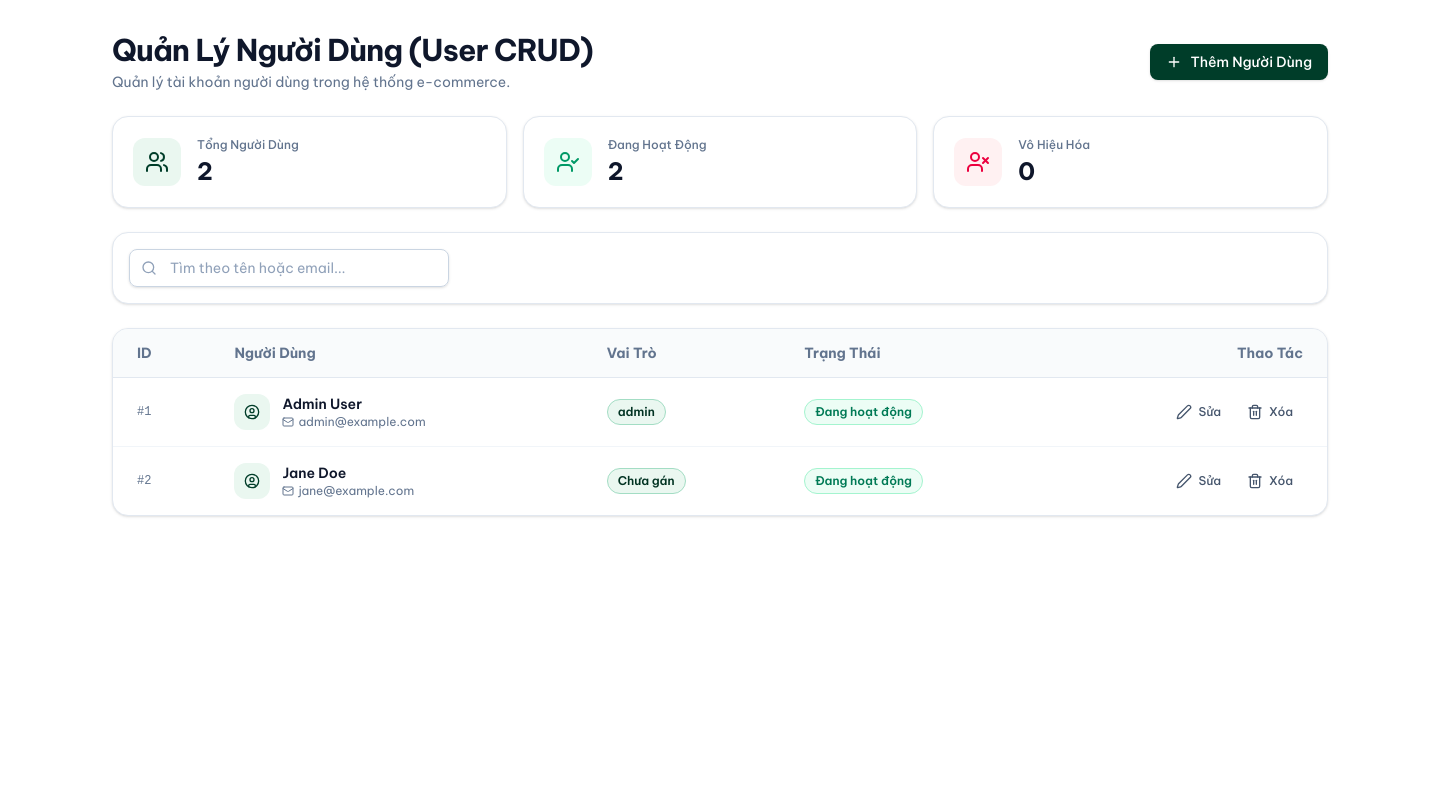
Scenario: UsersPage › shows an error banner when the create mutation fails
Click the button "Thêm Người Dùng" at (1239, 62), box [1150,44,1328,80]
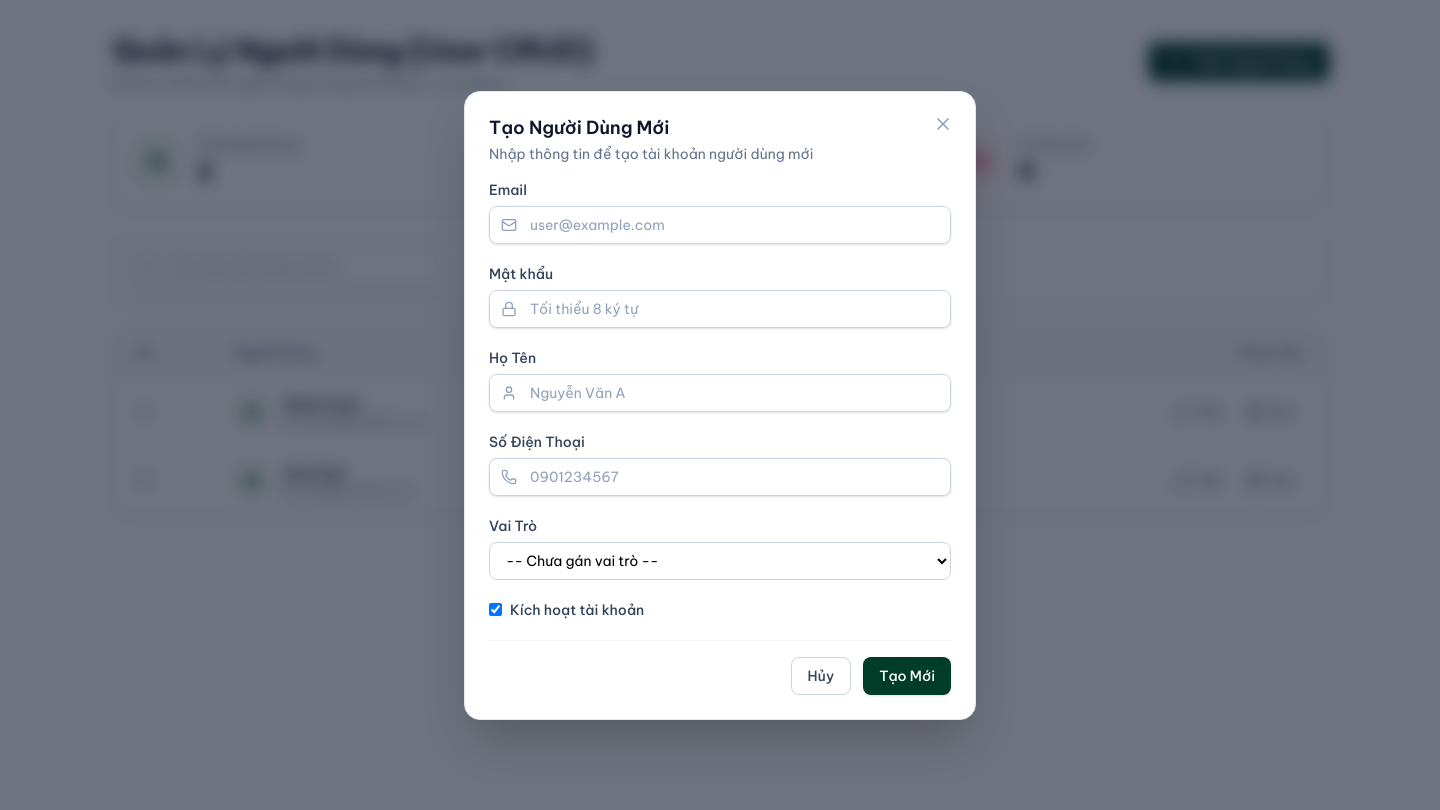
Type "admin@example.com" into the field labelled "Email" at (720, 224), box [489,206,951,244]
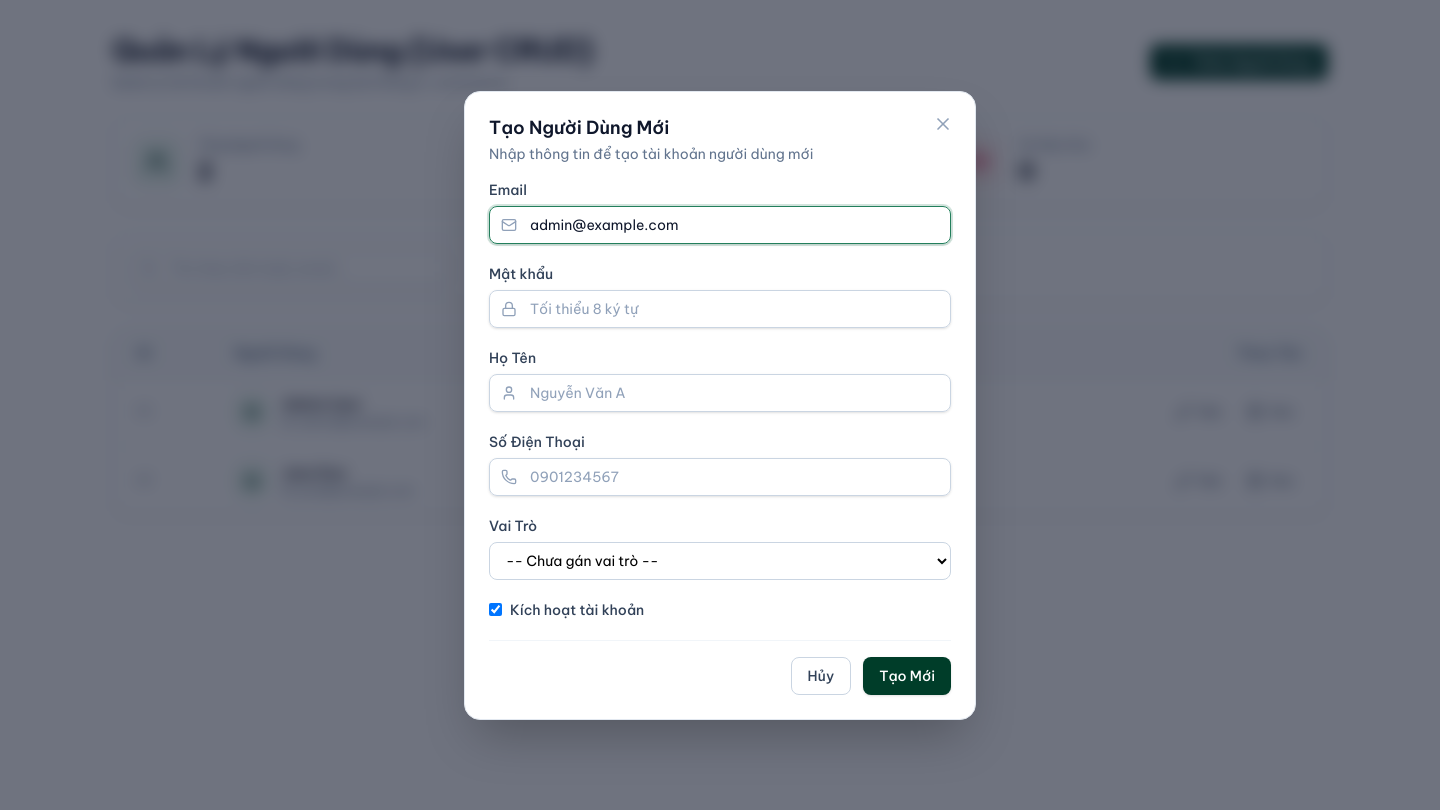
Type "password123" into the password field labelled "Mật khẩu" at (720, 308), box [489,290,951,328]
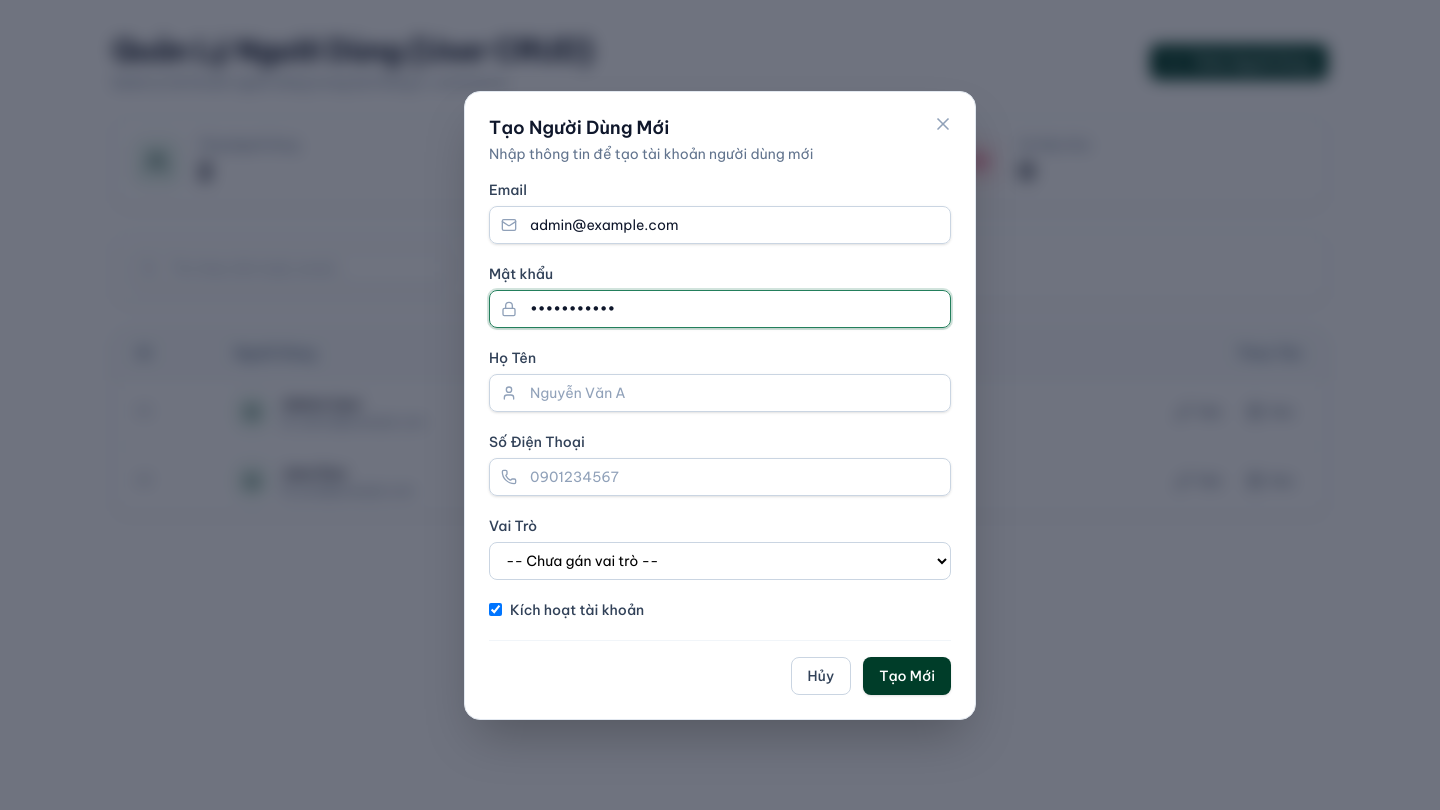
Type "Admin User" into the field labelled "Họ Tên" at (720, 392), box [489,374,951,412]
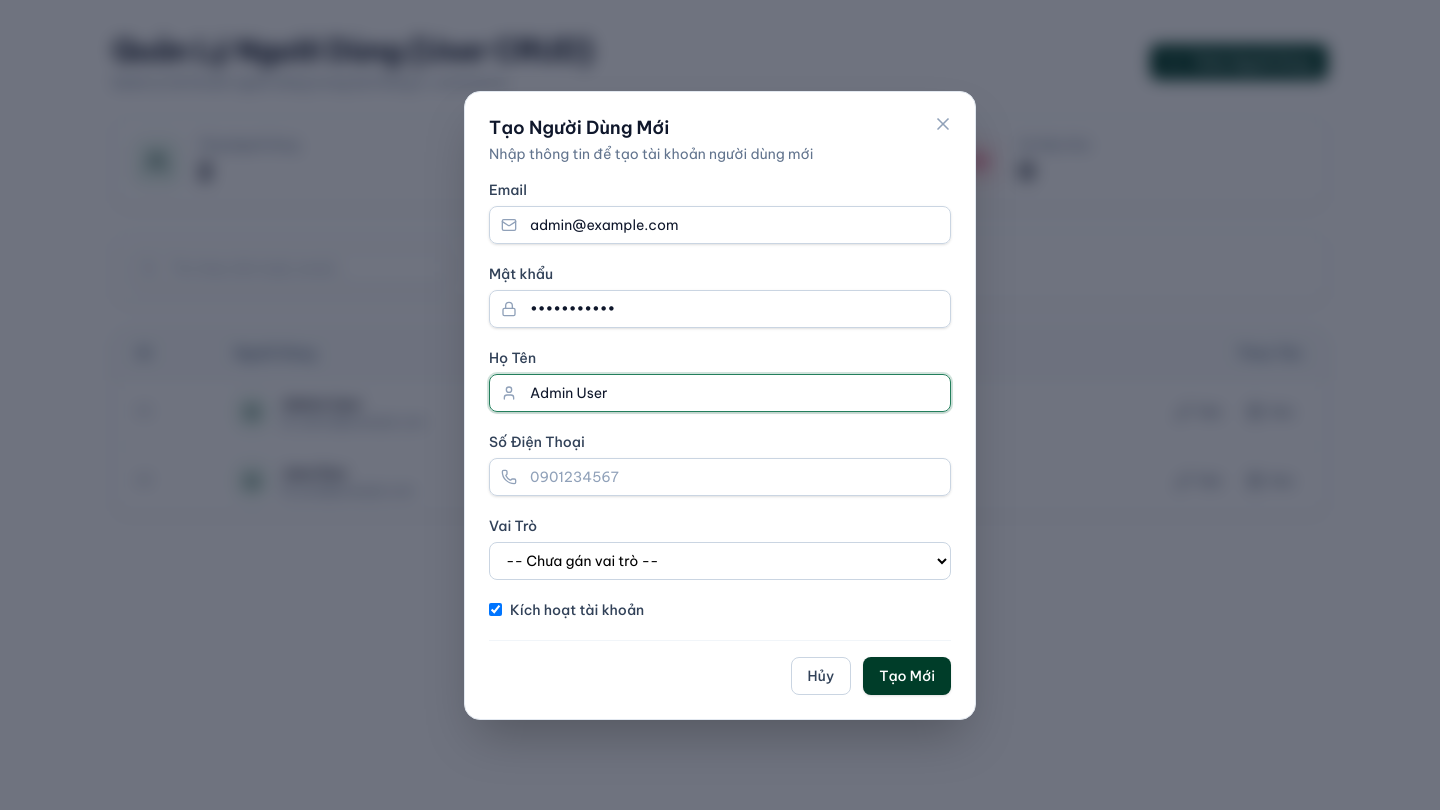
Click the button "Tạo Mới" at (907, 676), box [863,656,951,694]
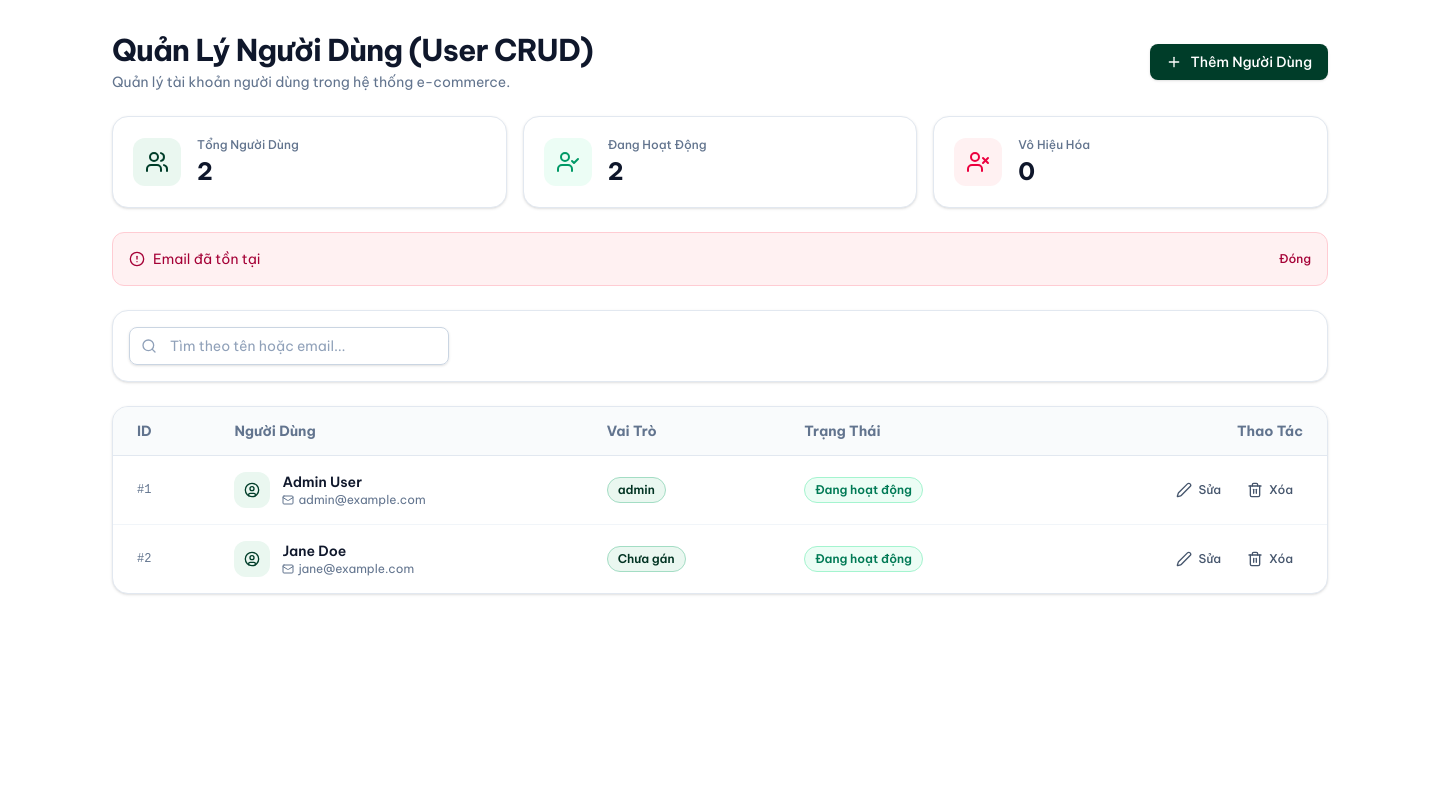
expect the text "Email đã tồn tại" is shown: met, box [153,249,260,269]
